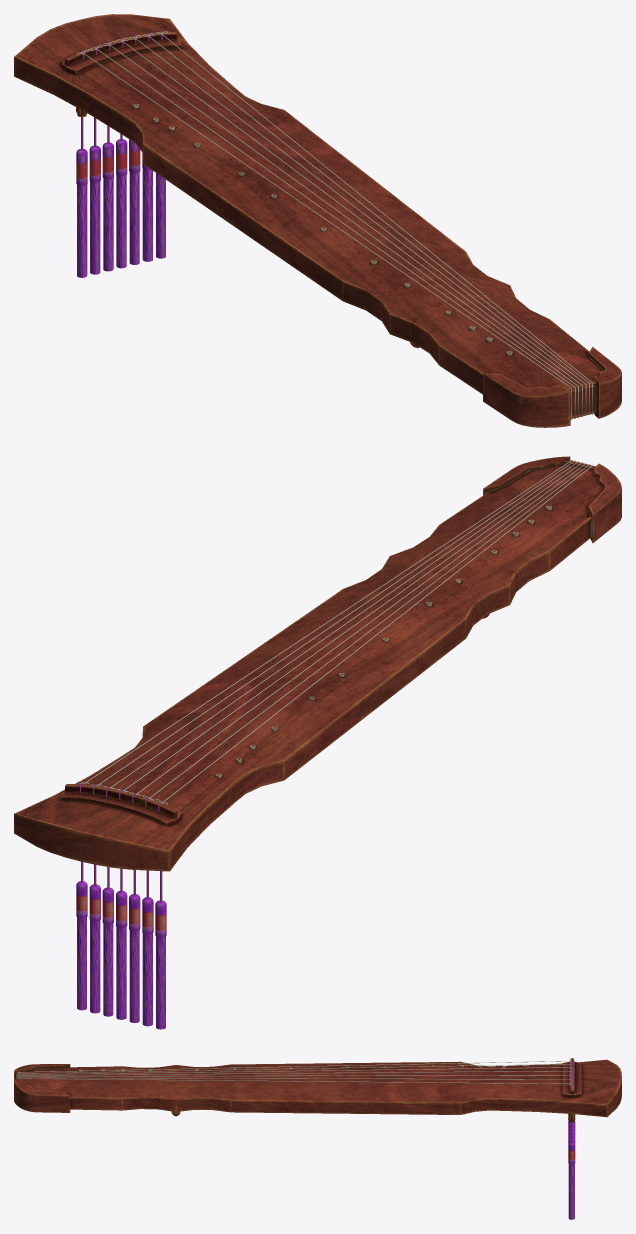
Rendered from qin.fbx.
3 renders of one model, top to bottom at view 1: azimuth 30°, elevation 25°; view 2: azimuth 150°, elevation 25°; view 3: azimuth 270°, elevation 25°, orthographic. The views are drawn at different scales.
Parts seen in each view (by area): view 1: polySurface64, polySurface68, polySurface69, polySurface66, polySurface20, polySurface23, polySurface29, polySurface17, polySurface35, polySurface26, polySurface65, polySurface10 (+7 smaller); view 2: polySurface64, polySurface68, polySurface66, polySurface29, polySurface35, polySurface20, polySurface26, polySurface23, polySurface65, polySurface17, polySurface32, polySurface69 (+3 smaller); view 3: polySurface64, polySurface69, polySurface13, polySurface14, polySurface11, polySurface9, polySurface10, polySurface1, polySurface12, polySurface66, polySurface32, polySurface68.
Part boxes in pixels (bbox=[...]): polySurface64: bbox=[14, 14, 603, 418]; polySurface68: bbox=[483, 373, 570, 427]; polySurface69: bbox=[588, 347, 621, 418]; polySurface66: bbox=[60, 39, 181, 74]; polySurface20: bbox=[90, 181, 100, 274]; polySurface23: bbox=[103, 178, 113, 271]; polySurface29: bbox=[142, 169, 152, 261]; polySurface17: bbox=[77, 185, 87, 277]; polySurface35: bbox=[116, 175, 126, 268]; polySurface26: bbox=[129, 172, 139, 264]; polySurface65: bbox=[65, 32, 177, 66]; polySurface10: bbox=[96, 49, 575, 418]; polySurface64: bbox=[14, 463, 604, 871]; polySurface68: bbox=[588, 463, 621, 543]; polySurface66: bbox=[60, 791, 181, 825]; polySurface29: bbox=[90, 920, 100, 1013]; polySurface35: bbox=[116, 926, 126, 1019]; polySurface20: bbox=[142, 933, 152, 1026]; polySurface26: bbox=[103, 923, 113, 1016]; polySurface23: bbox=[129, 930, 139, 1022]; polySurface65: bbox=[65, 784, 177, 818]; polySurface17: bbox=[156, 936, 165, 1029]; polySurface32: bbox=[77, 917, 86, 1010]; polySurface69: bbox=[483, 456, 570, 495]; polySurface64: bbox=[20, 1059, 621, 1117]; polySurface69: bbox=[14, 1079, 70, 1112]; polySurface13: bbox=[17, 1077, 569, 1079]; polySurface14: bbox=[16, 1078, 569, 1084]; polySurface11: bbox=[16, 1067, 569, 1074]; polySurface9: bbox=[17, 1061, 569, 1072]; polySurface10: bbox=[16, 1064, 569, 1073]; polySurface1: bbox=[16, 1071, 569, 1075]; polySurface12: bbox=[16, 1075, 569, 1077]; polySurface66: bbox=[562, 1062, 581, 1097]; polySurface32: bbox=[568, 1164, 574, 1219]; polySurface68: bbox=[14, 1064, 70, 1079].
Bounding box in the file's own units: 124 × 173 × 695.
1 material, 1 textured.
